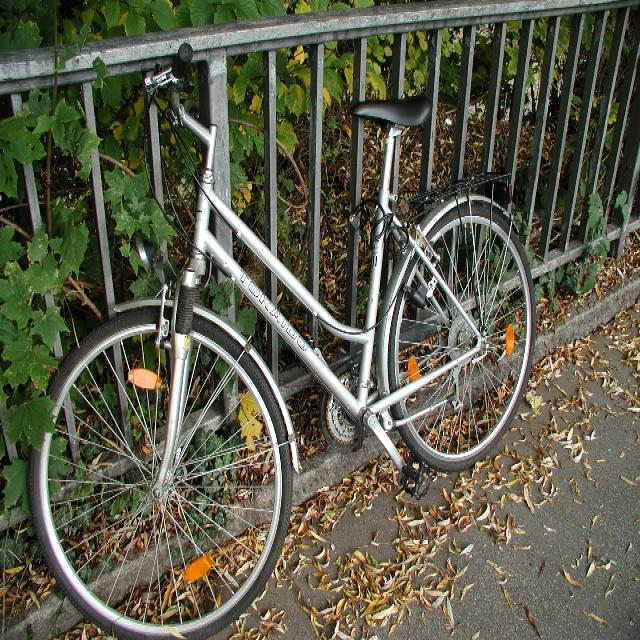bicycle: (27, 41, 535, 639)
